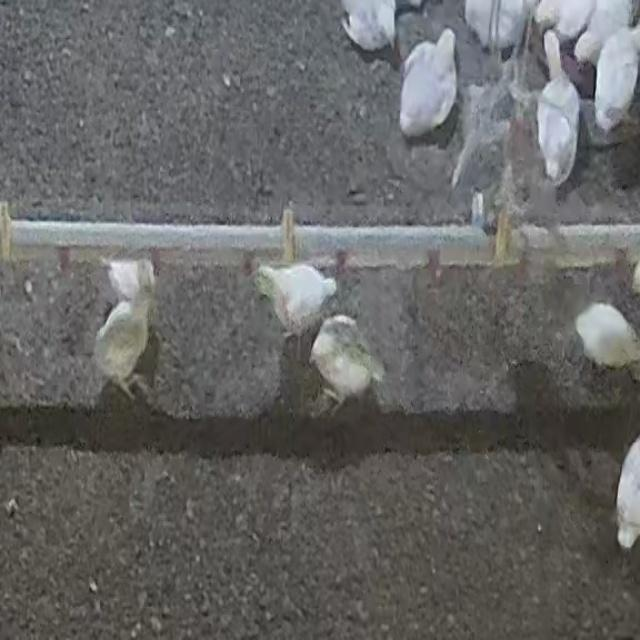chicken: (396, 28, 460, 138), (535, 31, 578, 189), (311, 315, 382, 408), (249, 264, 334, 339), (87, 295, 153, 389), (591, 30, 640, 129), (569, 302, 640, 370), (338, 0, 402, 54), (462, 0, 530, 50), (580, 0, 640, 56), (535, 0, 591, 42)
